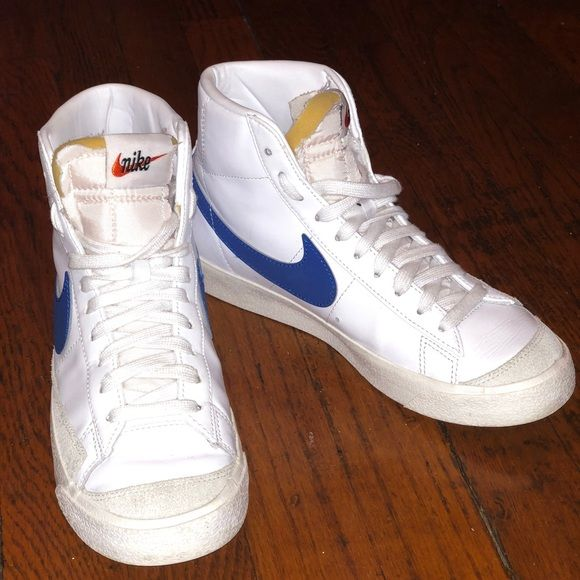nike_blazer_mid77_darkblue: (187, 60, 576, 428), (35, 81, 250, 569)
